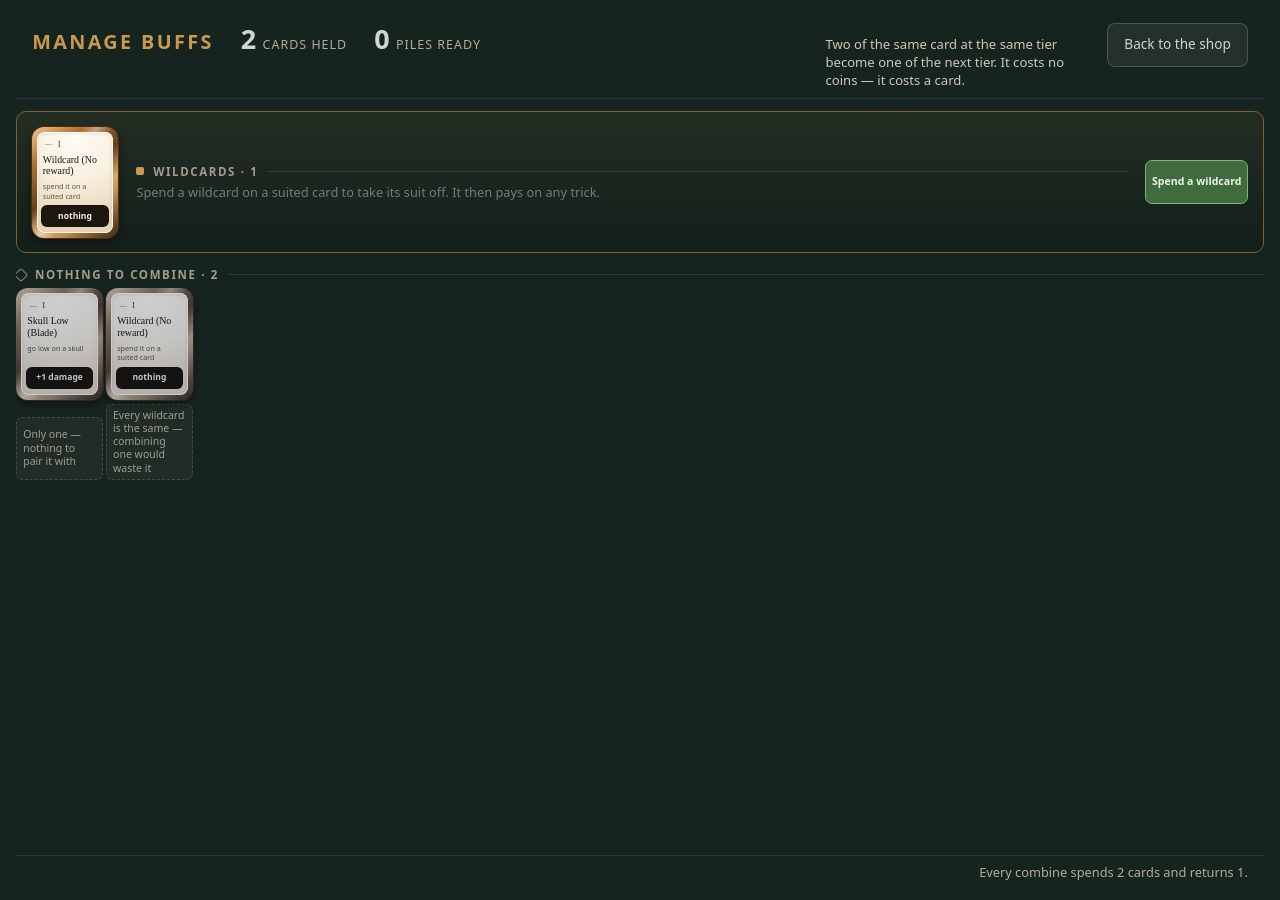
Test: leaving the wildcard target mode › the cancel control leaves the mode and returns focus to the band
The width and height of the screenshot is (1280, 900).
Step 1. Click the button "Spend a wildcard" → (1197, 182), box [1145, 160, 1248, 204]
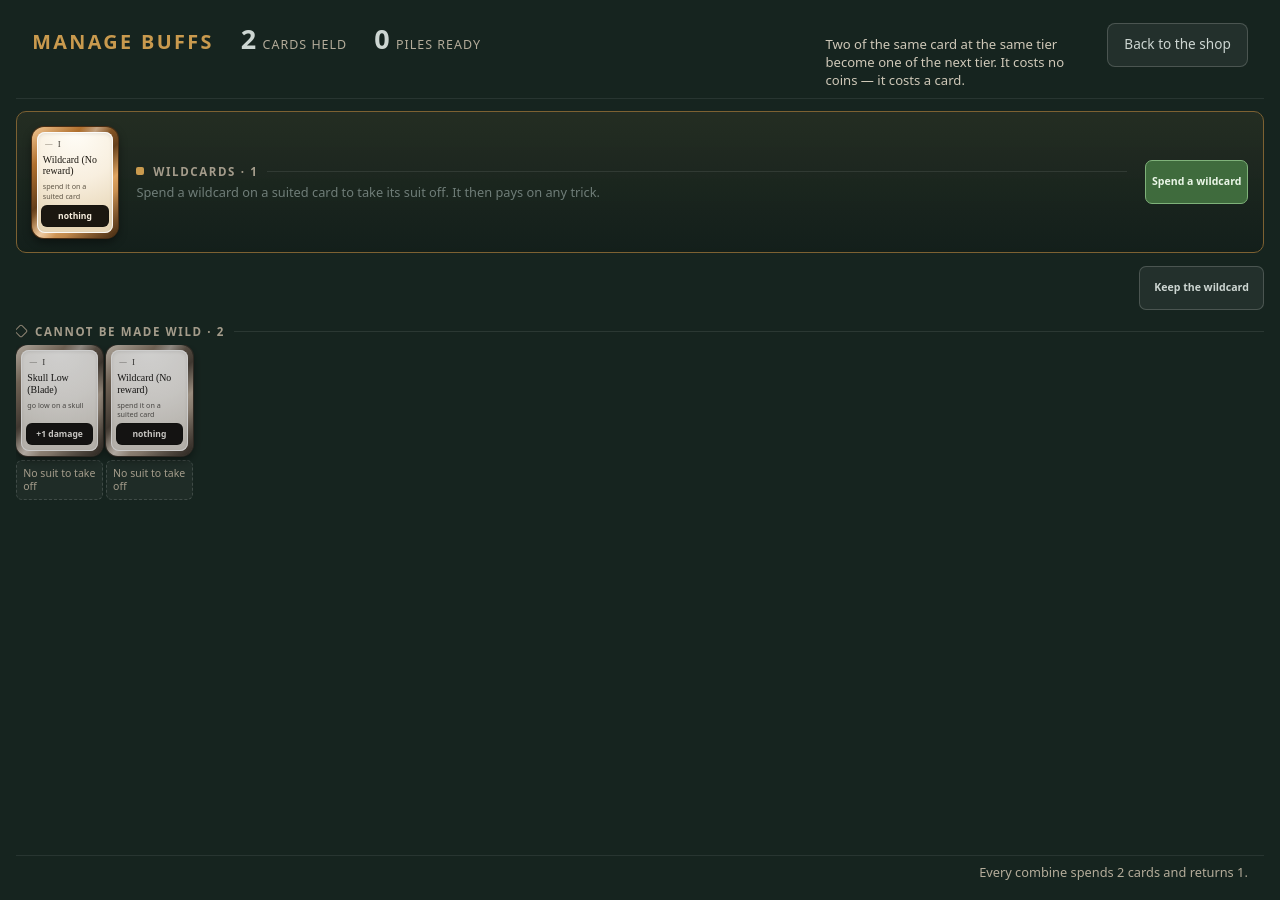
Result: the list named "Cannot be made wild" is shown at [16, 345, 193, 500]
Step 2. Click the button "Keep the wildcard" → (1202, 288), box [1139, 266, 1264, 310]
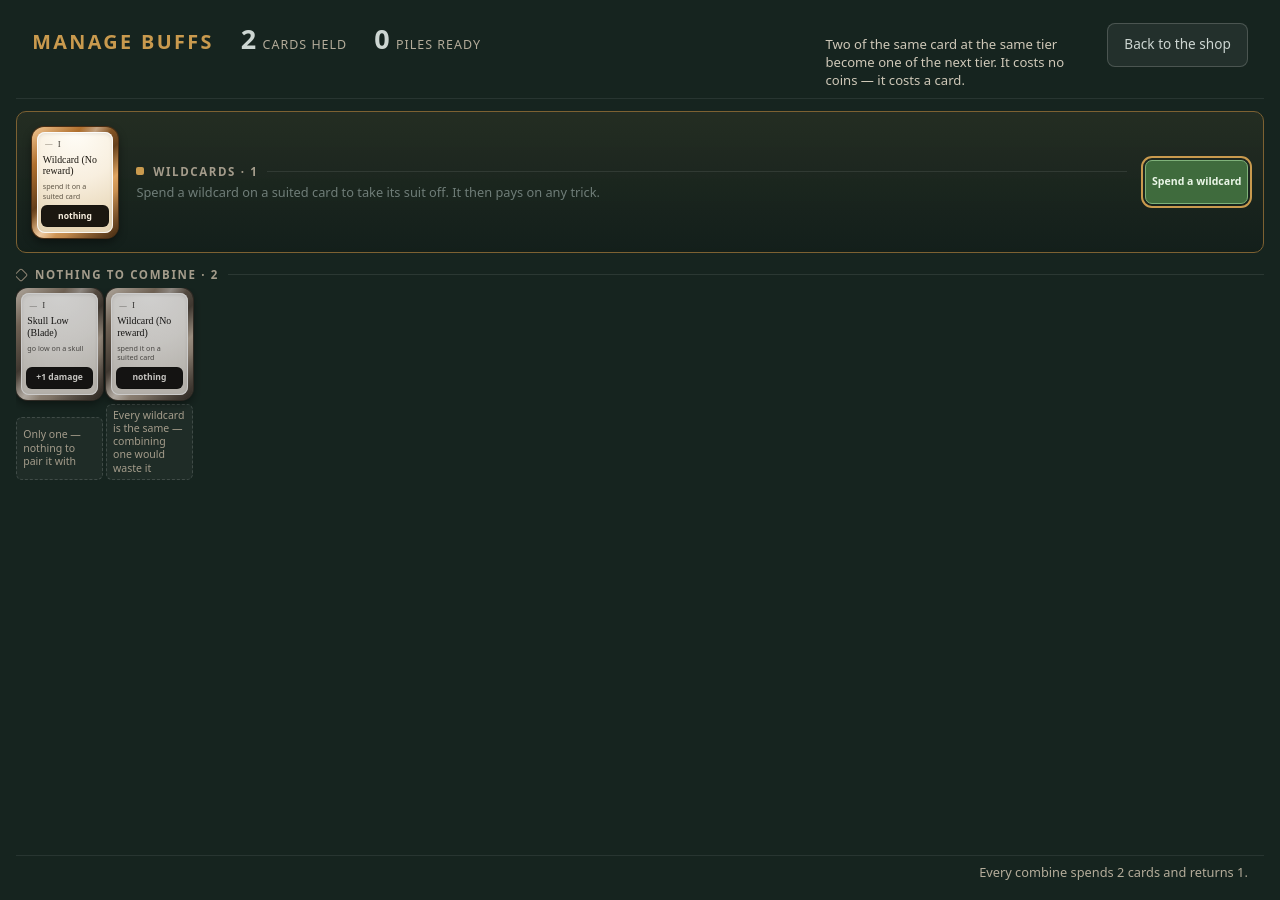
Result: the button "Keep the wildcard" is gone
